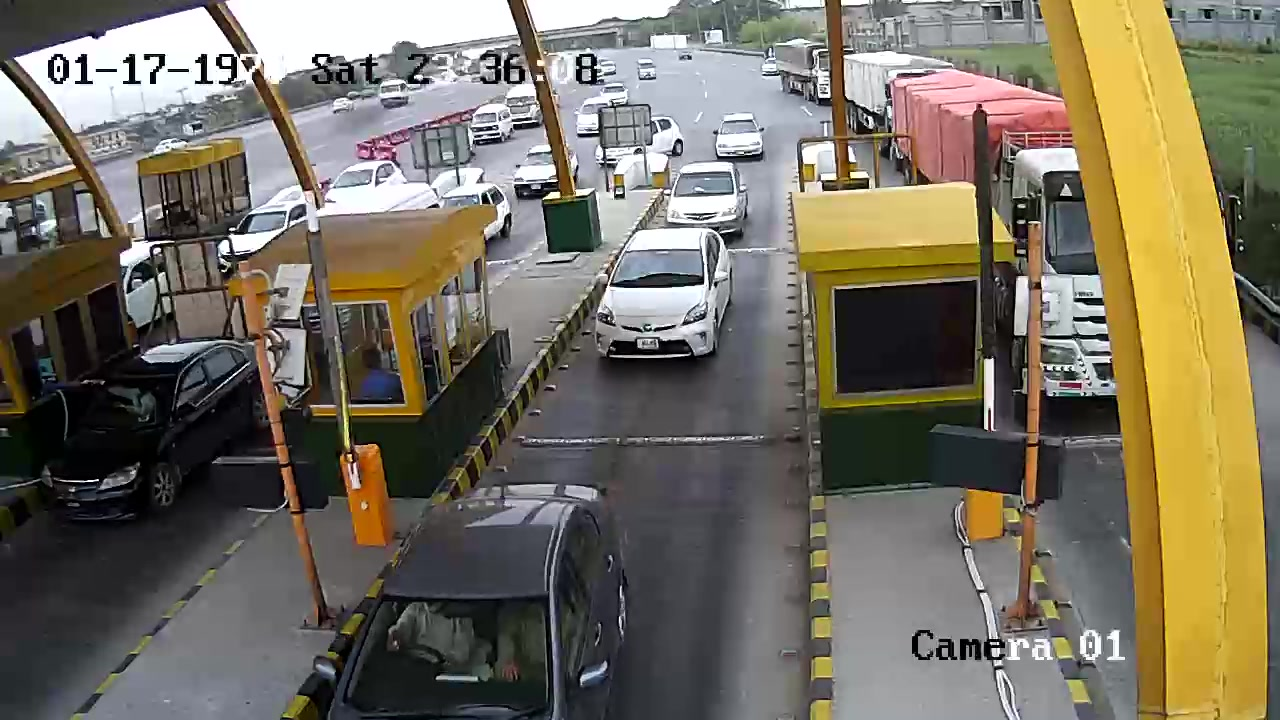F1: (579, 231, 738, 380)
